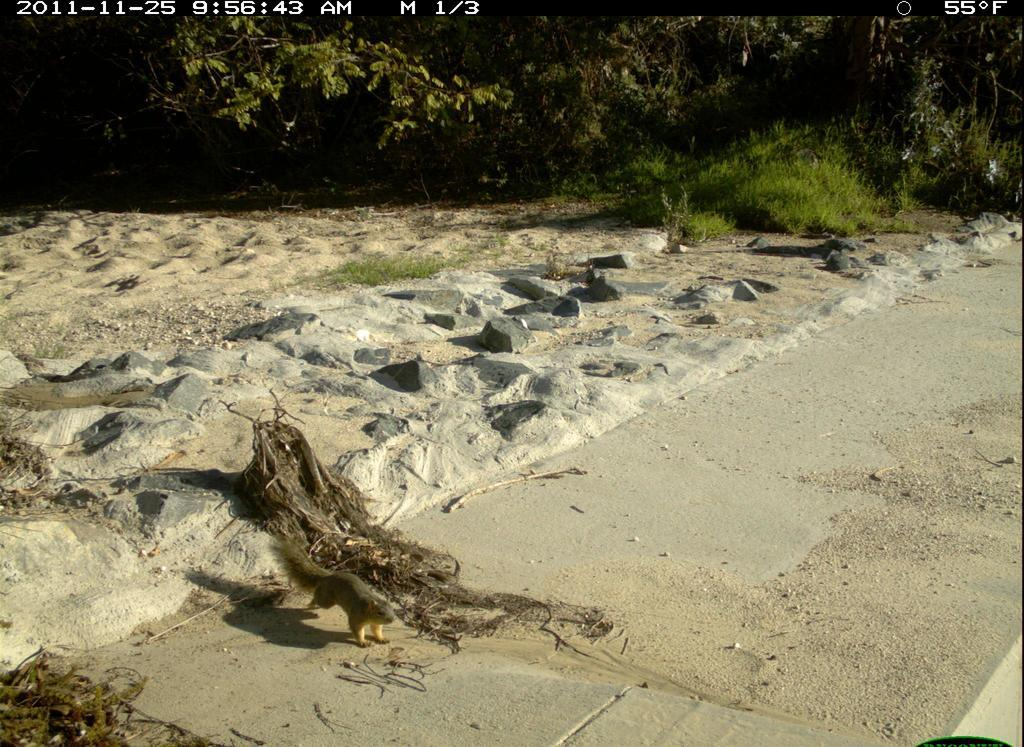squirrel: (263, 521, 406, 655)
